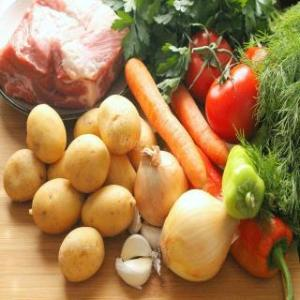bell_pepper: (228, 209, 296, 300), (222, 140, 266, 224)
carrot: (124, 54, 209, 192), (165, 78, 231, 168)
garlic: (112, 255, 156, 288), (114, 232, 158, 262)
onion: (152, 187, 240, 287), (128, 144, 192, 230)
potato: (76, 179, 138, 241), (27, 174, 85, 236), (62, 131, 112, 195), (56, 220, 106, 284), (98, 90, 142, 160), (22, 102, 68, 166), (1, 145, 49, 205)
tomato: (206, 56, 266, 148), (182, 23, 236, 103)
